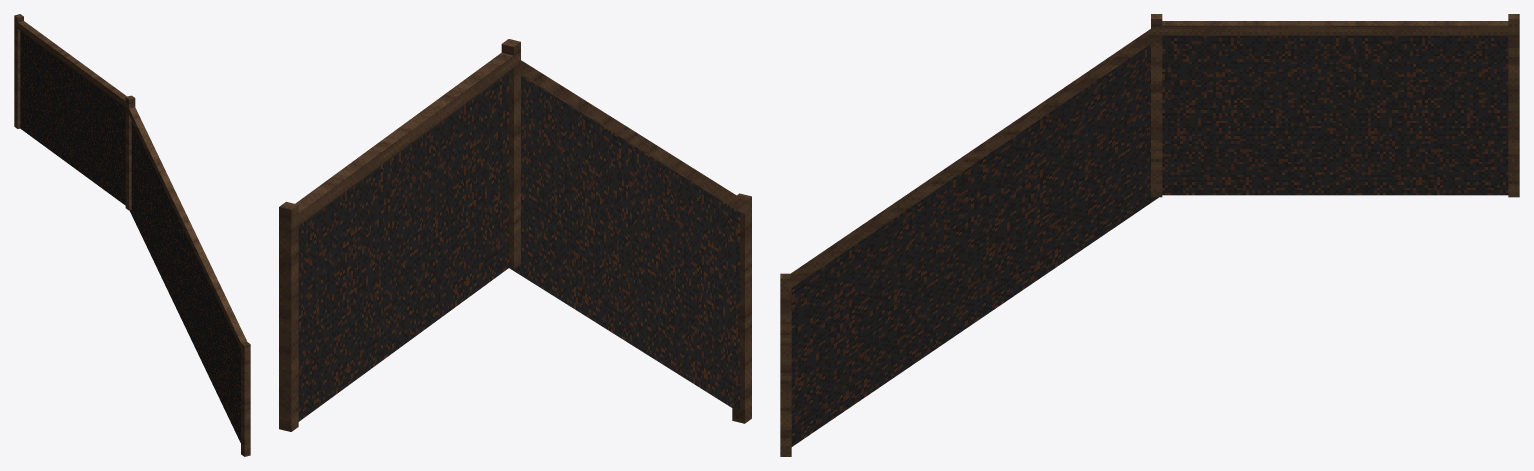
File: stair_u_rail_l.gltf
3 renders of one model, left to right at view 1: azimuth 30°, elevation 25°; view 2: azimuth 150°, elevation 25°; view 3: azimuth 270°, elevation 25°, orthographic. The views are drawn at different scales.
Visible parts, largest first — view 1: stair_u_rail_l; view 2: stair_u_rail_l; view 3: stair_u_rail_l.
Part boxes in pixels (box(x1,y1,x2,y2)): stair_u_rail_l: box(14, 14, 250, 456); stair_u_rail_l: box(279, 39, 751, 431); stair_u_rail_l: box(780, 14, 1519, 456).
Size of what is drawn, in the model's own units: 0.06 by 2.53 by 3.87.
2 materials, 2 textured.
